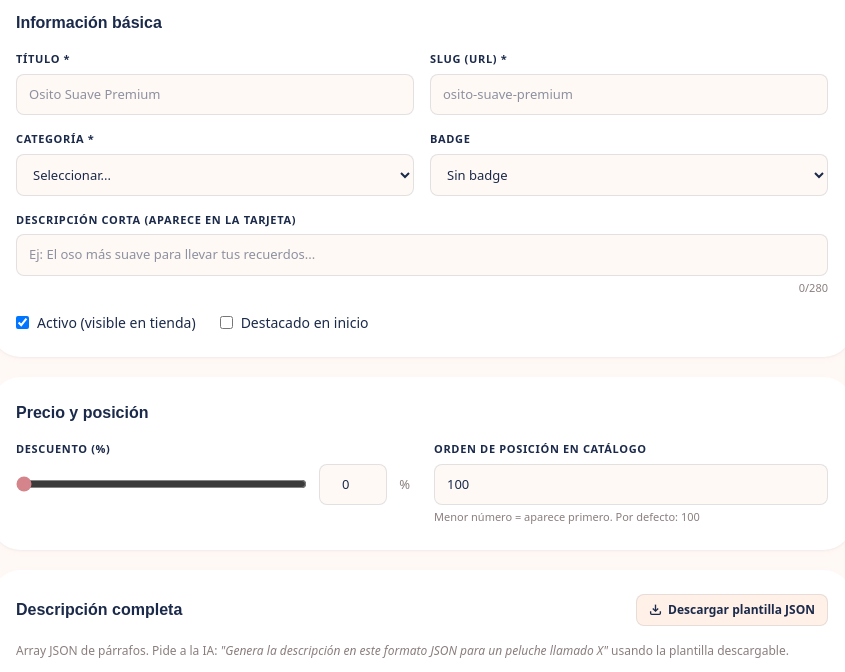
Scenario: PeluchForm › auto-generates slug from title when not manually set
Type "Mi Osito" into the field with placeholder "Osito Suave Premium" at [215, 94], box x1=16 y1=74 x2=414 y2=115
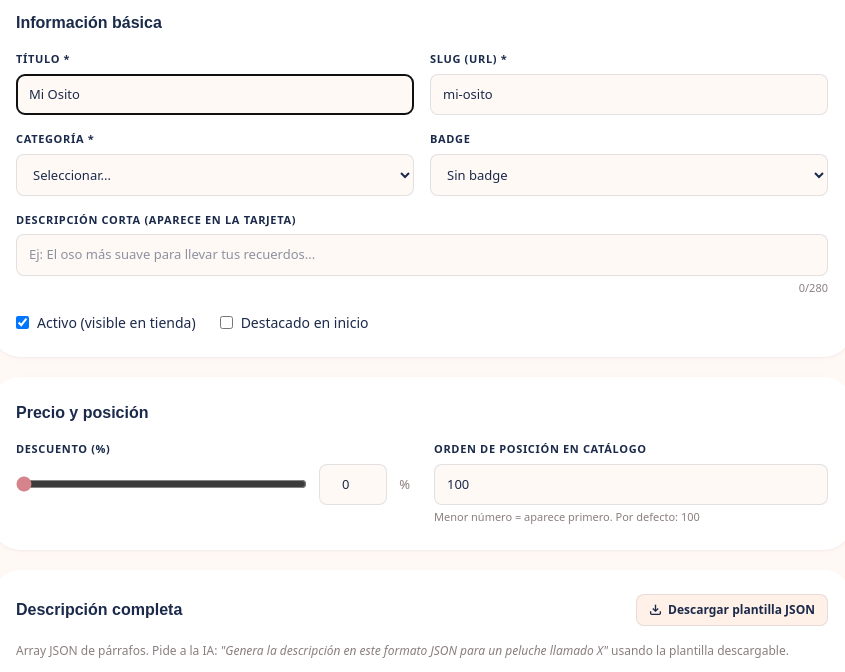
Expected: the field showing "mi-osito" below "Slug (URL) *" is shown, x1=430 y1=74 x2=828 y2=115
